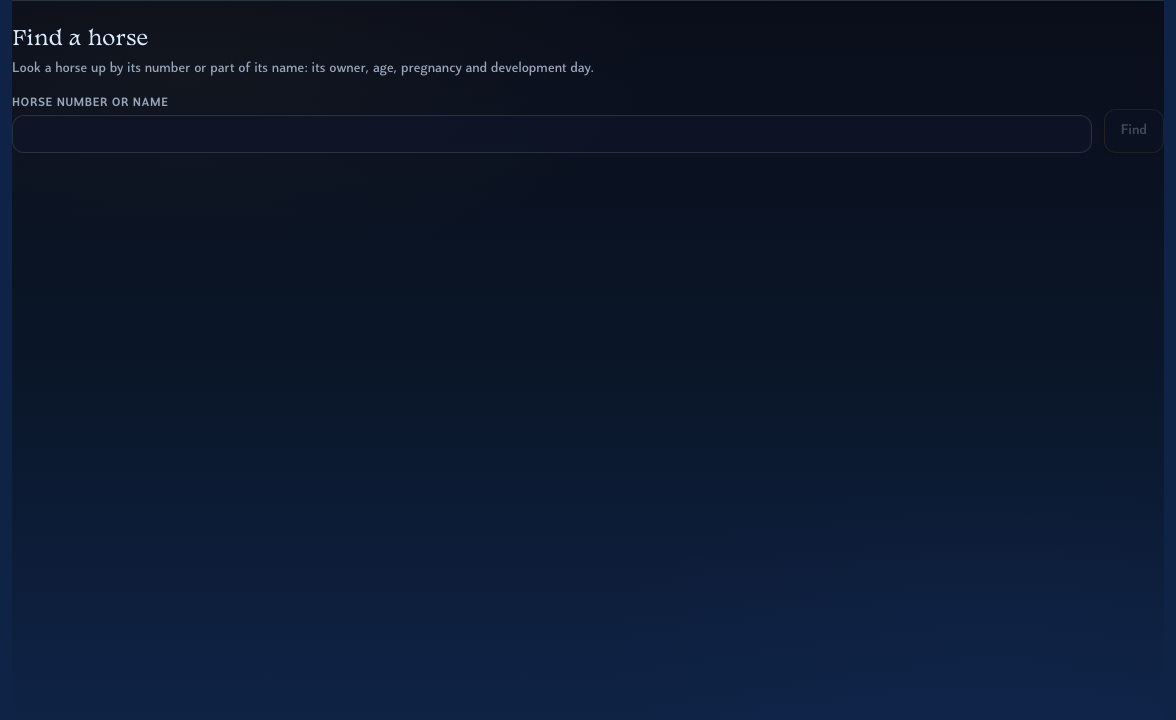
it: StaffHorseLookup › says when nothing matches
The width and height of the screenshot is (1176, 720).
Type "nobody" into the field labelled "Horse number or name".
click(552, 134); type("nobody")  # box [12,115,1092,153]
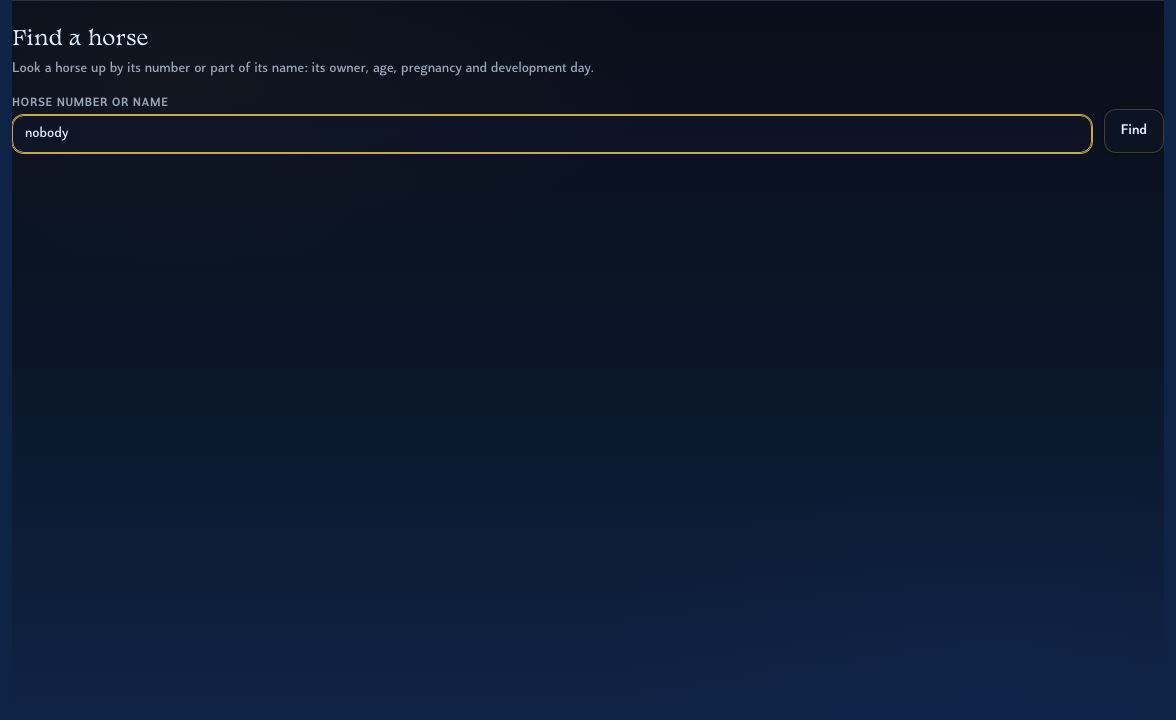
Click the button "Find".
click(1134, 131)  # box [1104,109,1164,153]
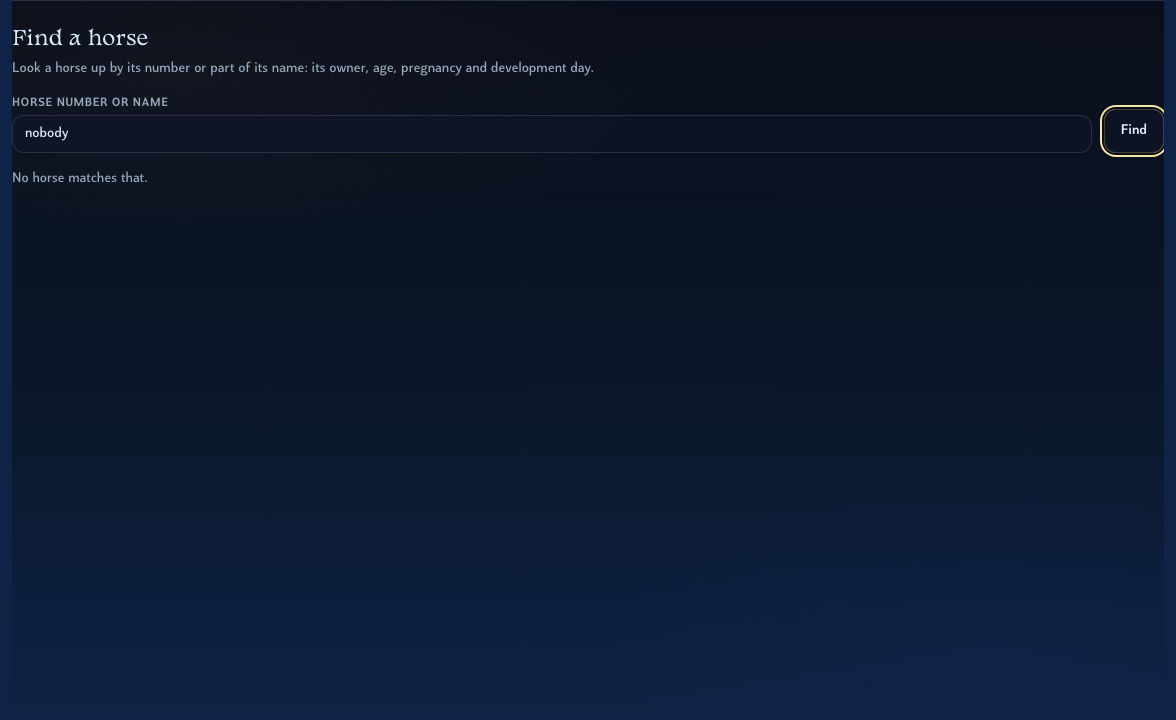
Now the text "No horse matches that." is shown, box [12,171,148,186]
